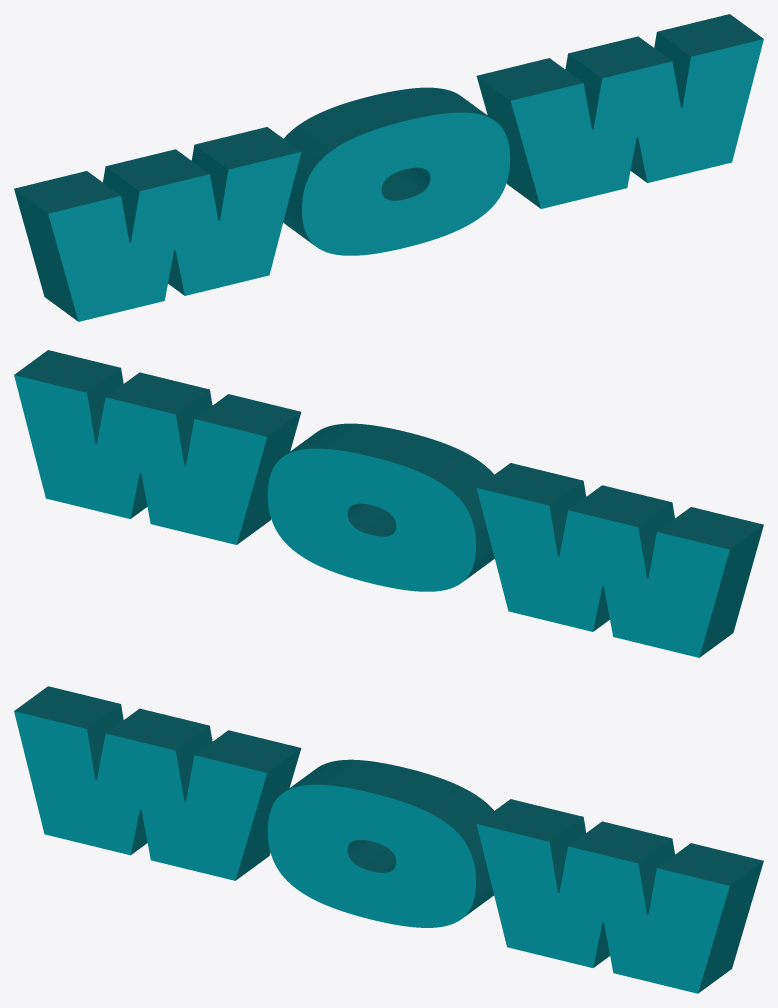
The model's file is wow.glb.
3 renders of one model, top to bottom at view 1: azimuth 30°, elevation 25°; view 2: azimuth 150°, elevation 25°; view 3: azimuth 330°, elevation 25°, orthographic.
Parts seen in each view (by area): view 1: wow1; view 2: wow1; view 3: wow1.
Part boxes in pixels (x1,y1,x2,y2): wow1: (14,14,763,321); wow1: (14,350,763,657); wow1: (14,686,763,993).
Size of the model in its own units: 3.06 by 0.5186 by 0.2528.
